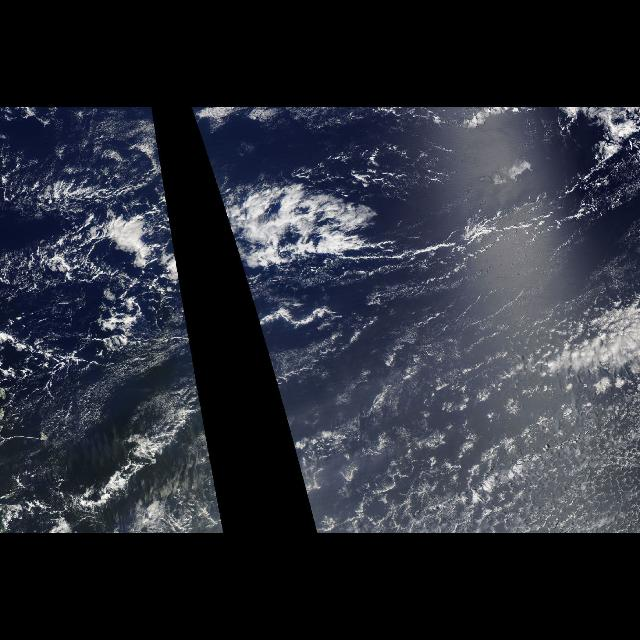Flower: (388, 317, 636, 529)
Gravel: (360, 344, 630, 528)
